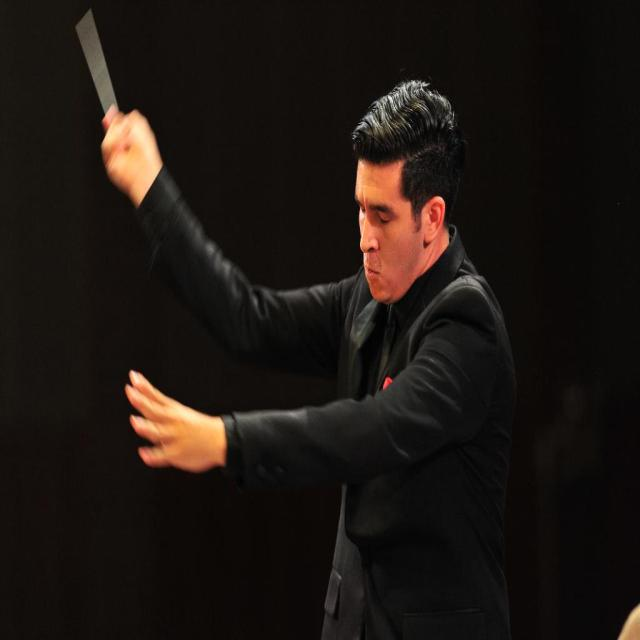no_helmet: (331, 142, 481, 252)
